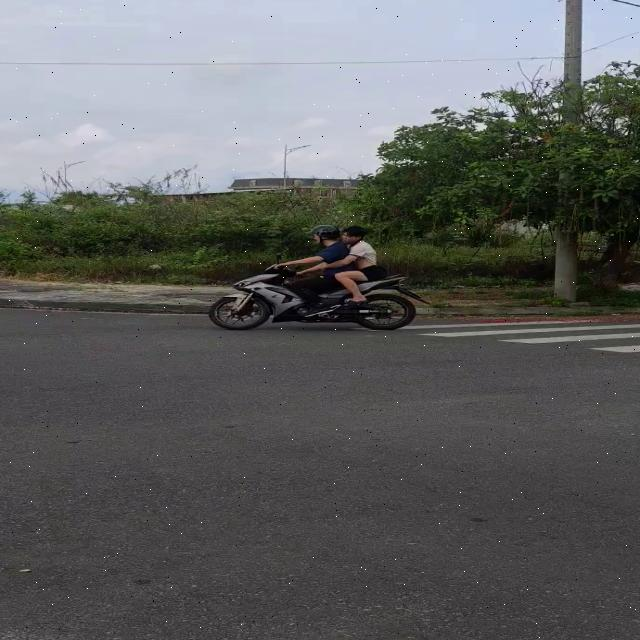helmet: (308, 225, 343, 250)
no_helmet: (340, 225, 367, 241)
